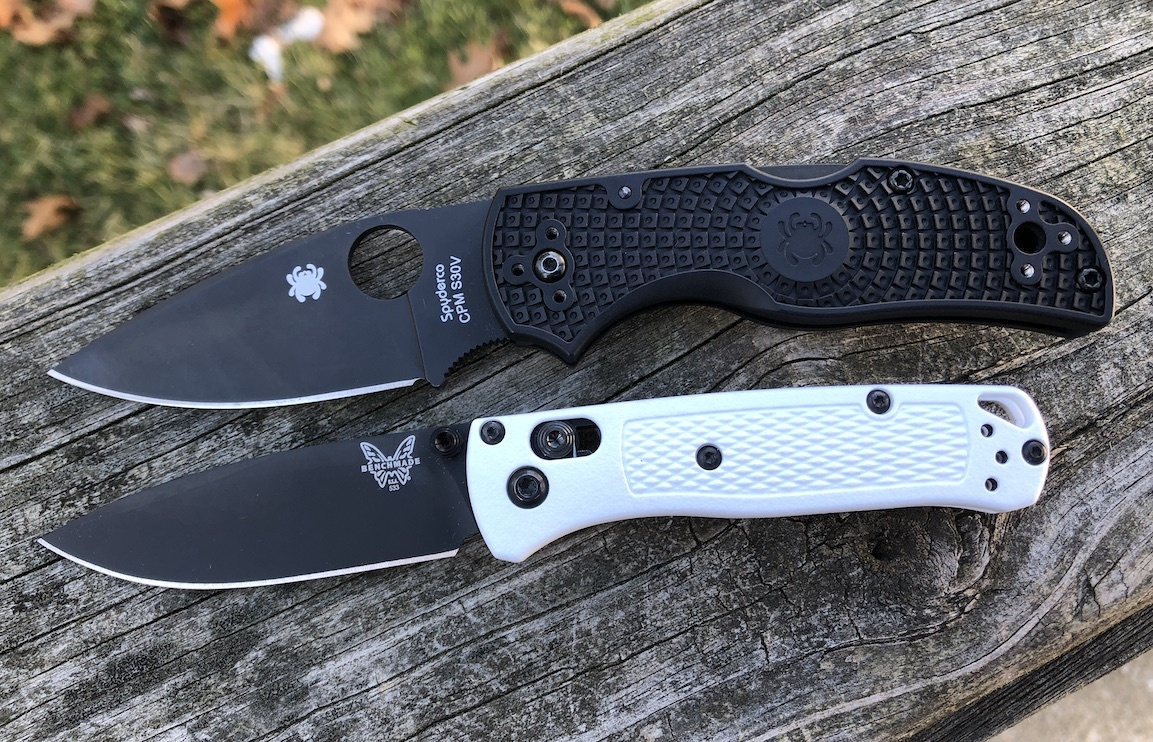knife: (39, 156, 1118, 415), (30, 378, 1053, 597)
